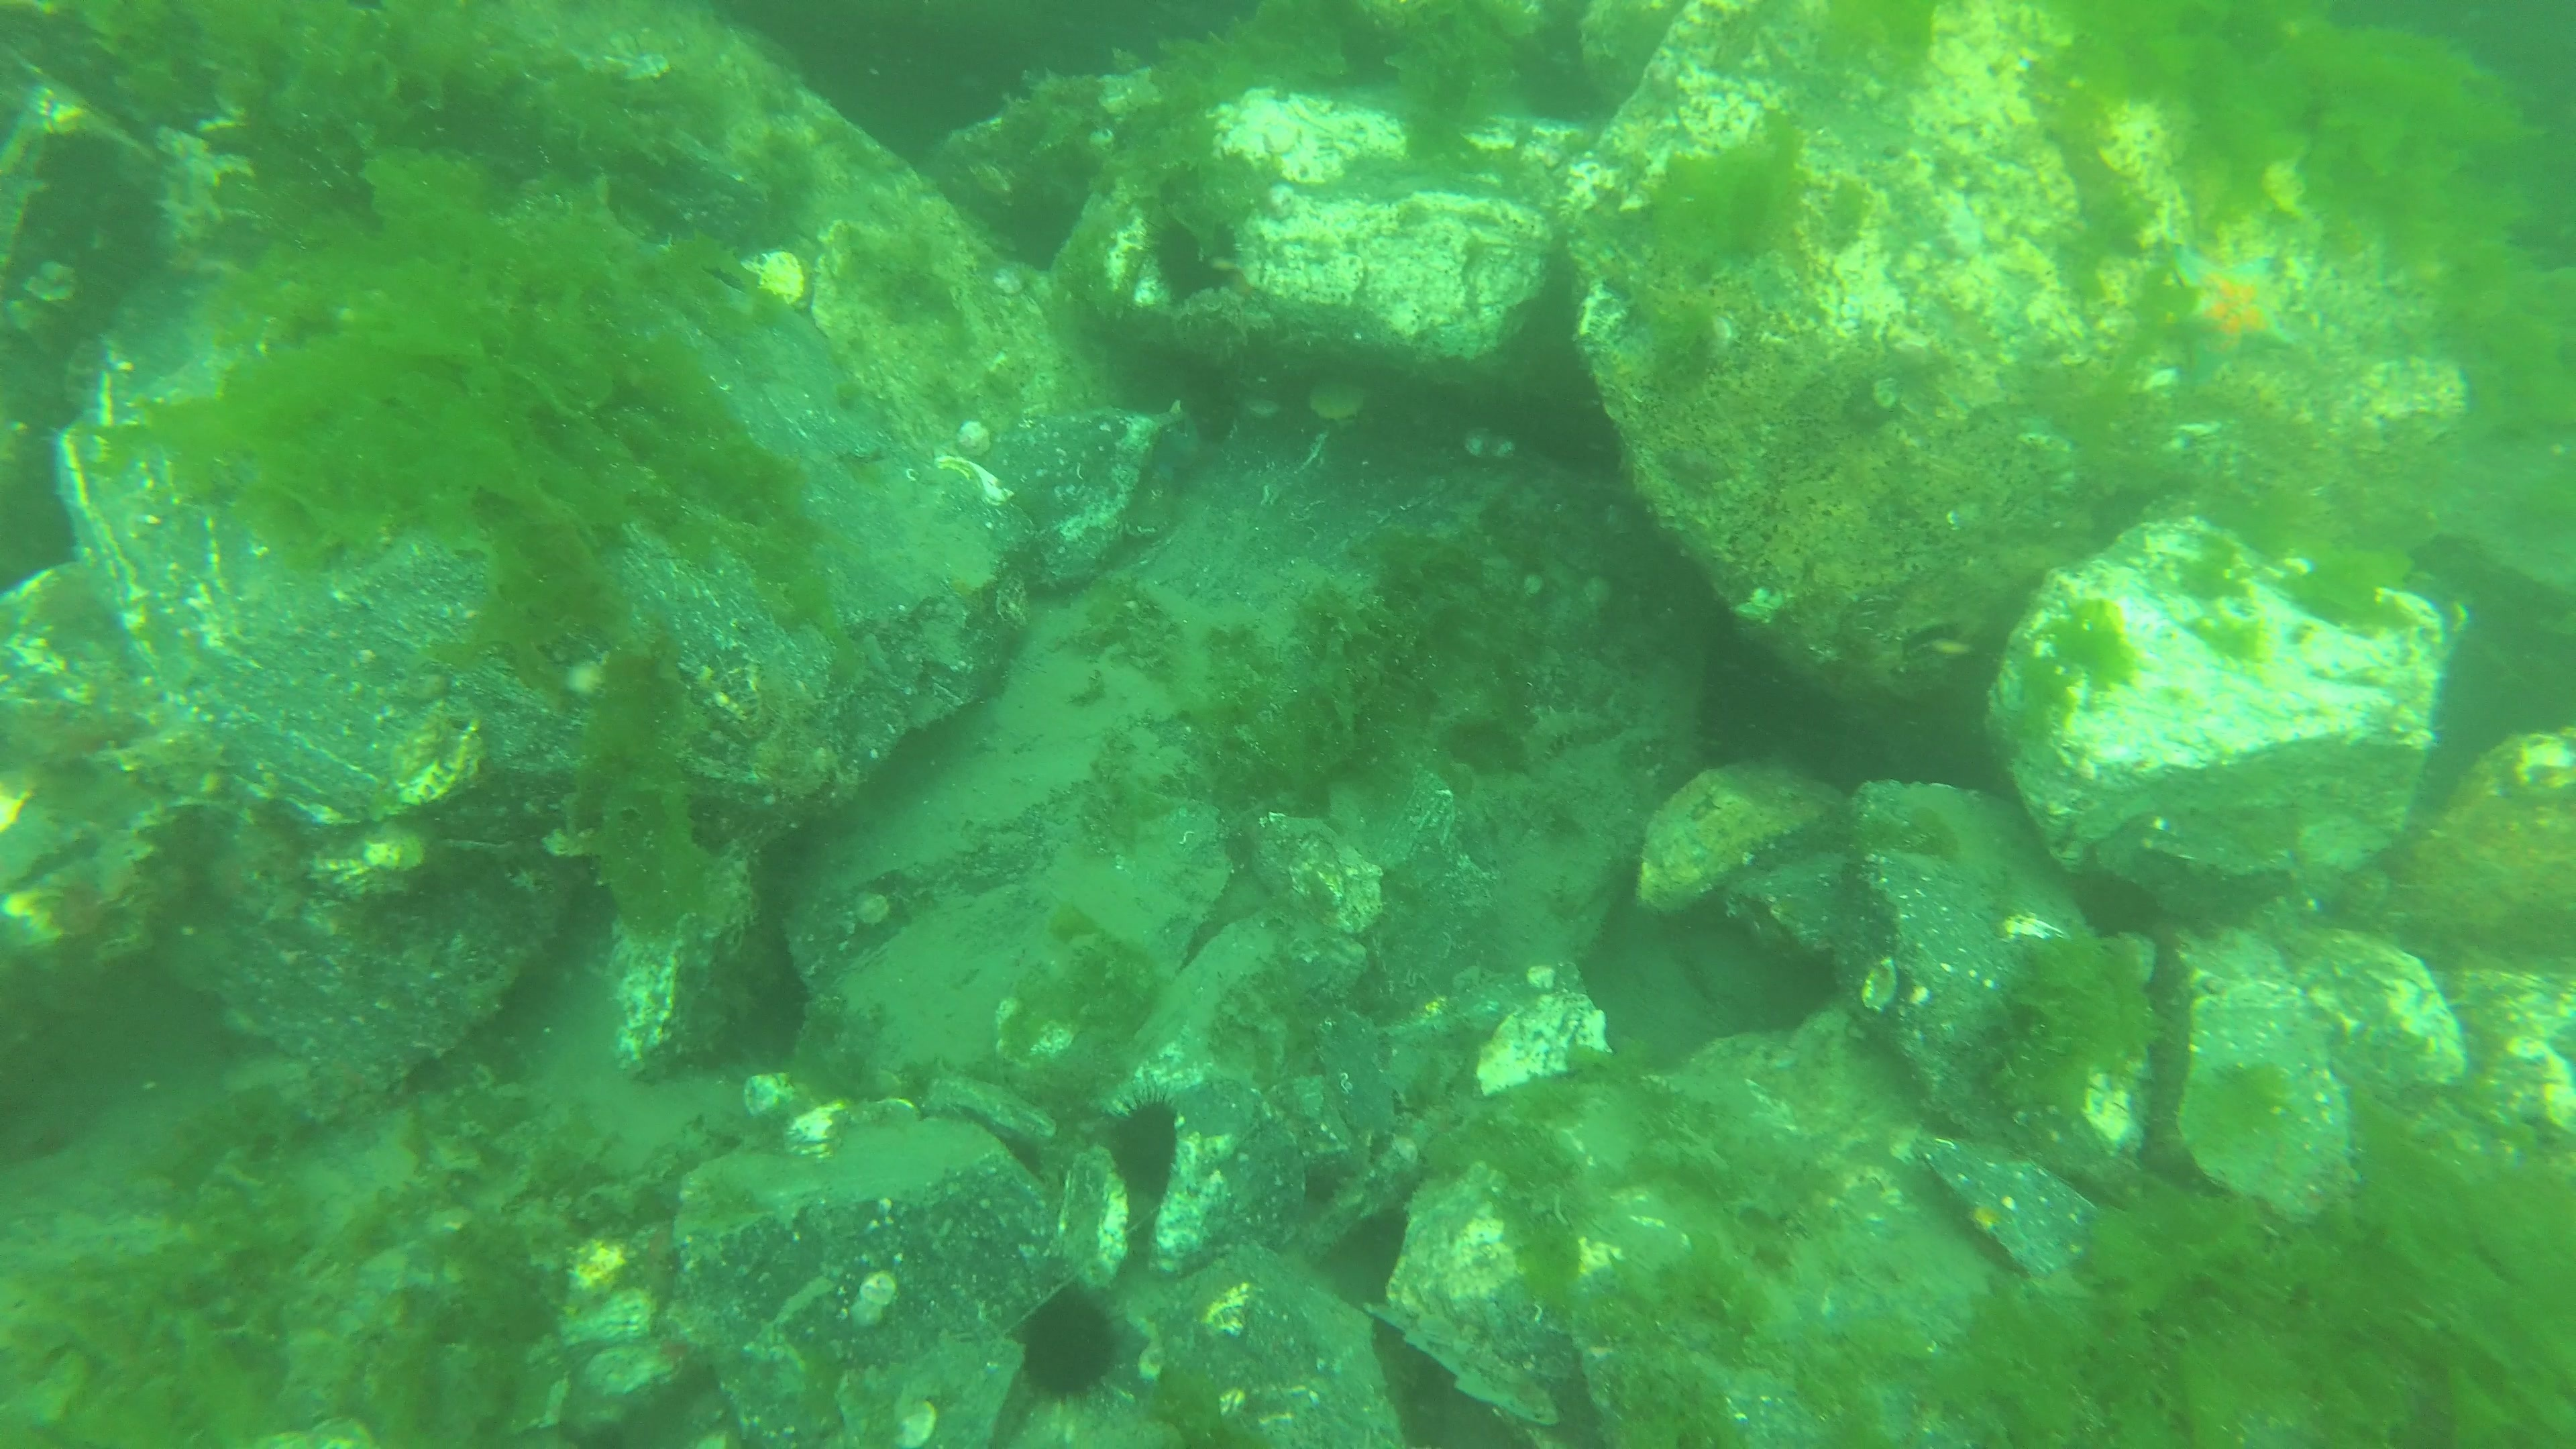echinus: (1005, 1272, 1134, 1417), (1139, 203, 1251, 310), (1095, 1081, 1185, 1208)
starfish: (2169, 235, 2304, 389)
